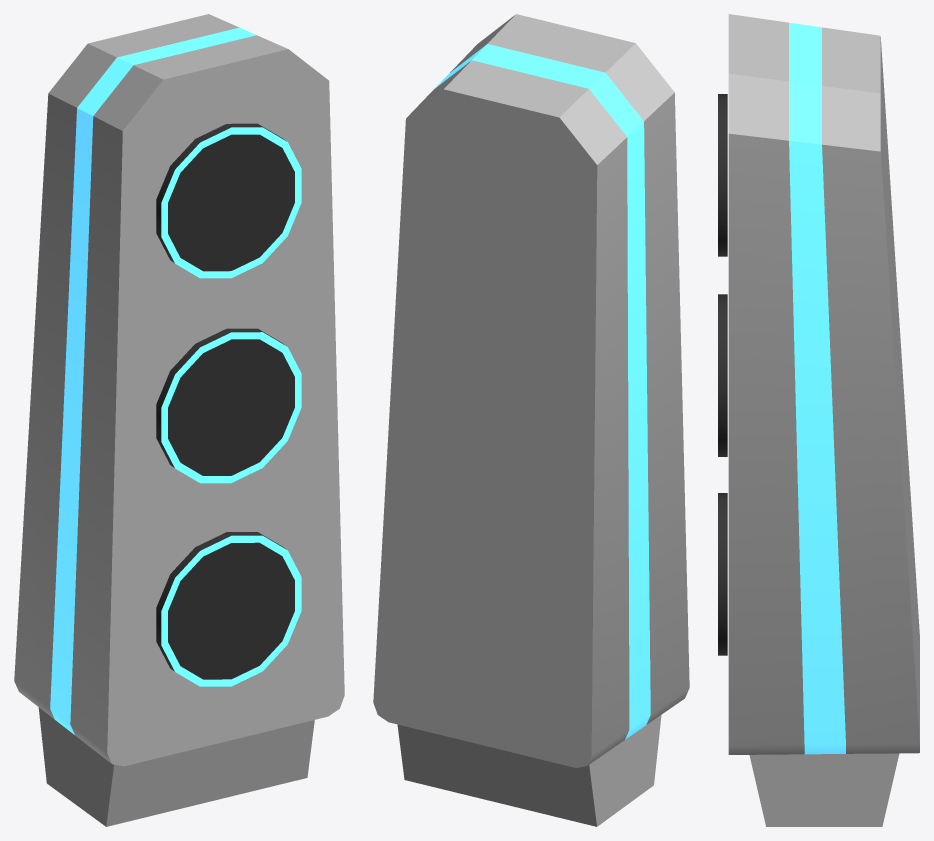
Rendered from speaker_2.glb.
The picture shows the model from 3 angles, left to right: view 1: azimuth 30°, elevation 25°; view 2: azimuth 150°, elevation 25°; view 3: azimuth 270°, elevation 25°; orthographic projection. The views are drawn at different scales.
Parts seen in each view (by area): view 1: Speaker 4; view 2: Speaker 4; view 3: Speaker 4.
Part boxes in pixels (x1,y1,x2,y2): Speaker 4: (14,14,344,826); Speaker 4: (373,14,689,826); Speaker 4: (718,14,919,826).
Size of the model in its own units: 0.0906 by 0.2743 by 0.0682.
2 materials, 1 textured.
